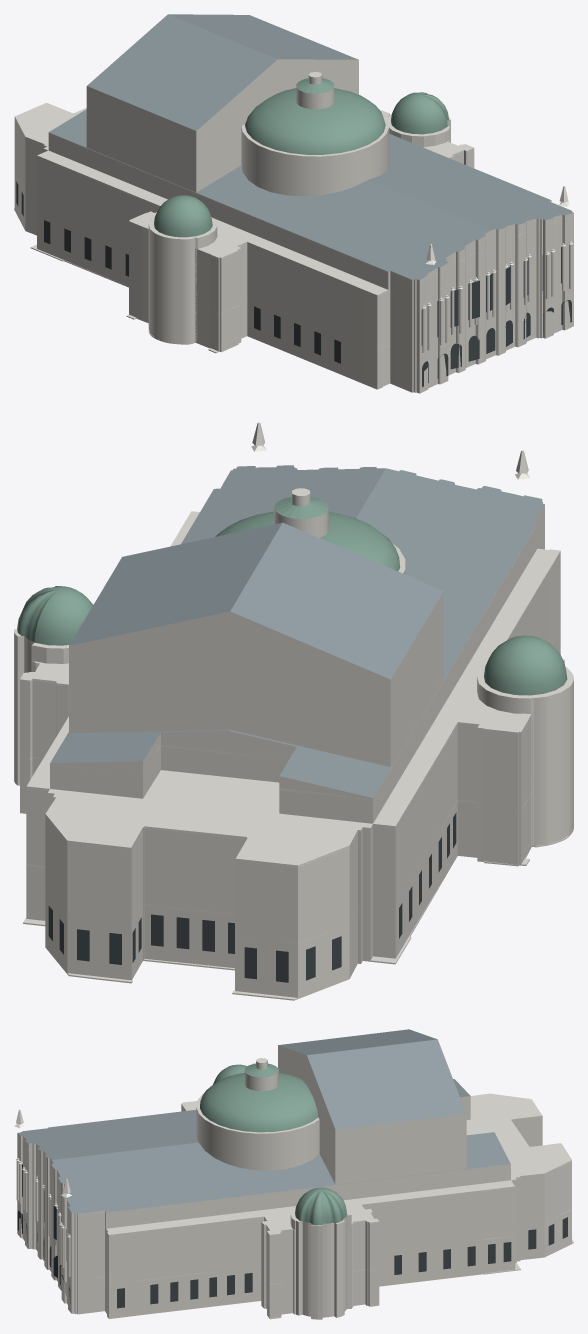
The model's file is detail.glb.
3 renders of one model, top to bottom at view 1: azimuth 30°, elevation 25°; view 2: azimuth 150°, elevation 25°; view 3: azimuth 270°, elevation 25°, orthographic. The views are drawn at different scales.
Parts seen in each view (by area): view 1: stone, roof, metal, recess, trim; view 2: stone, roof, metal, recess, trim; view 3: stone, roof, metal, recess, trim.
Boxes of the visible parts, x1,y1,x2,y2 form: stone: (14,59,573,393); roof: (49,14,573,280); metal: (154,78,448,237); recess: (16,181,571,387); trim: (14,117,573,350); stone: (14,465,573,1000); roof: (50,465,544,797); metal: (17,496,567,695); recess: (48,812,456,982); trim: (26,422,564,944); stone: (16,1045,573,1319); roof: (18,1029,510,1213); metal: (200,1063,347,1225); recess: (17,1164,567,1308); trim: (14,1104,571,1284).
Size of the model in its own units: 98.16 by 58 by 157.
